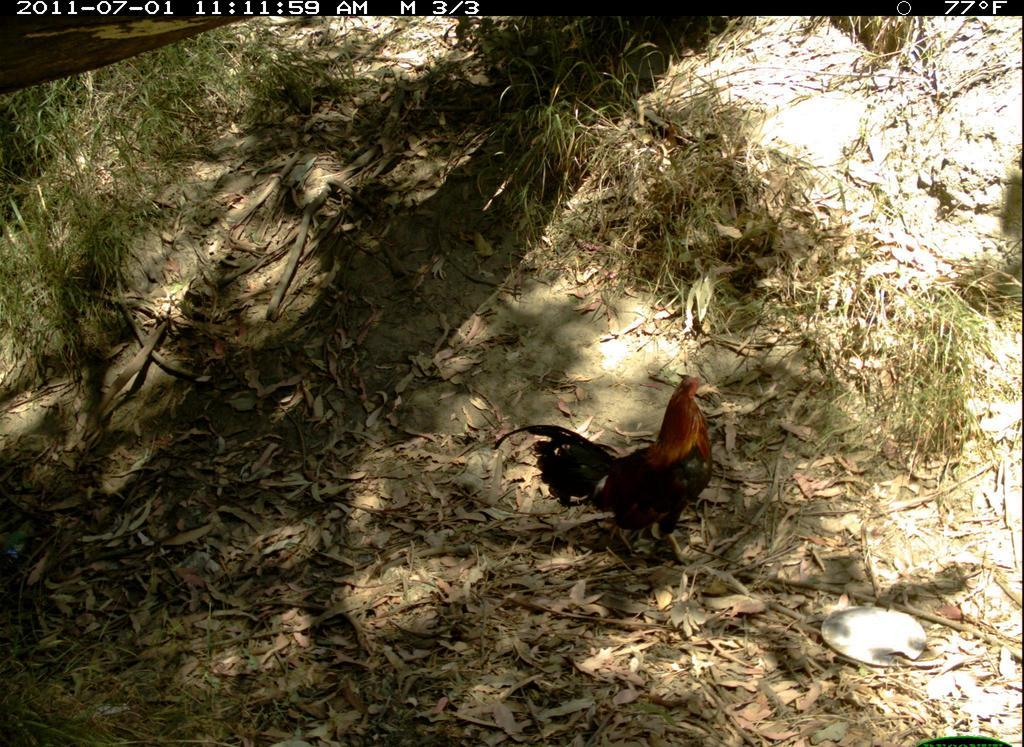bird: (501, 361, 720, 565)
